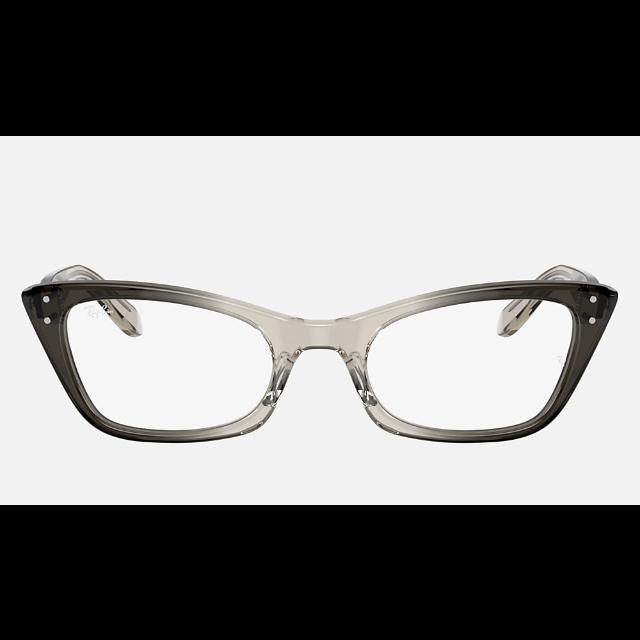glasses: (21, 262, 620, 442)
